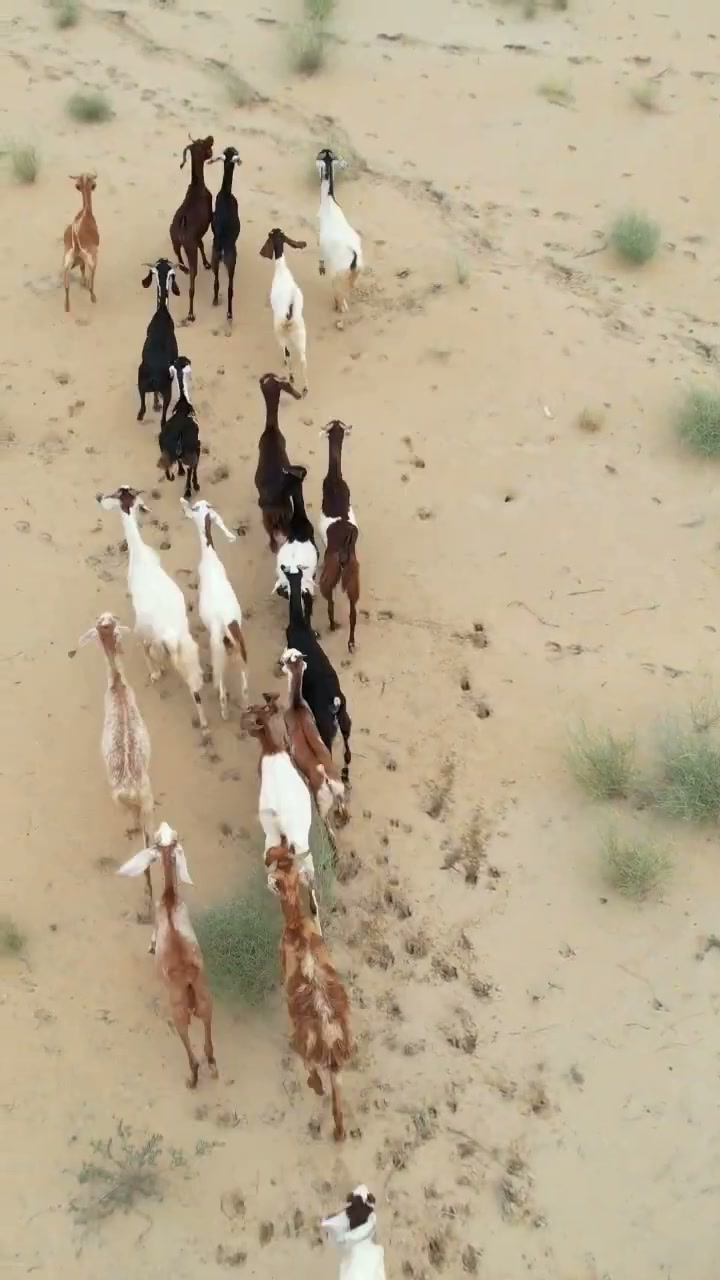animal_footprint: (155, 856, 470, 1277), (45, 337, 118, 580)
